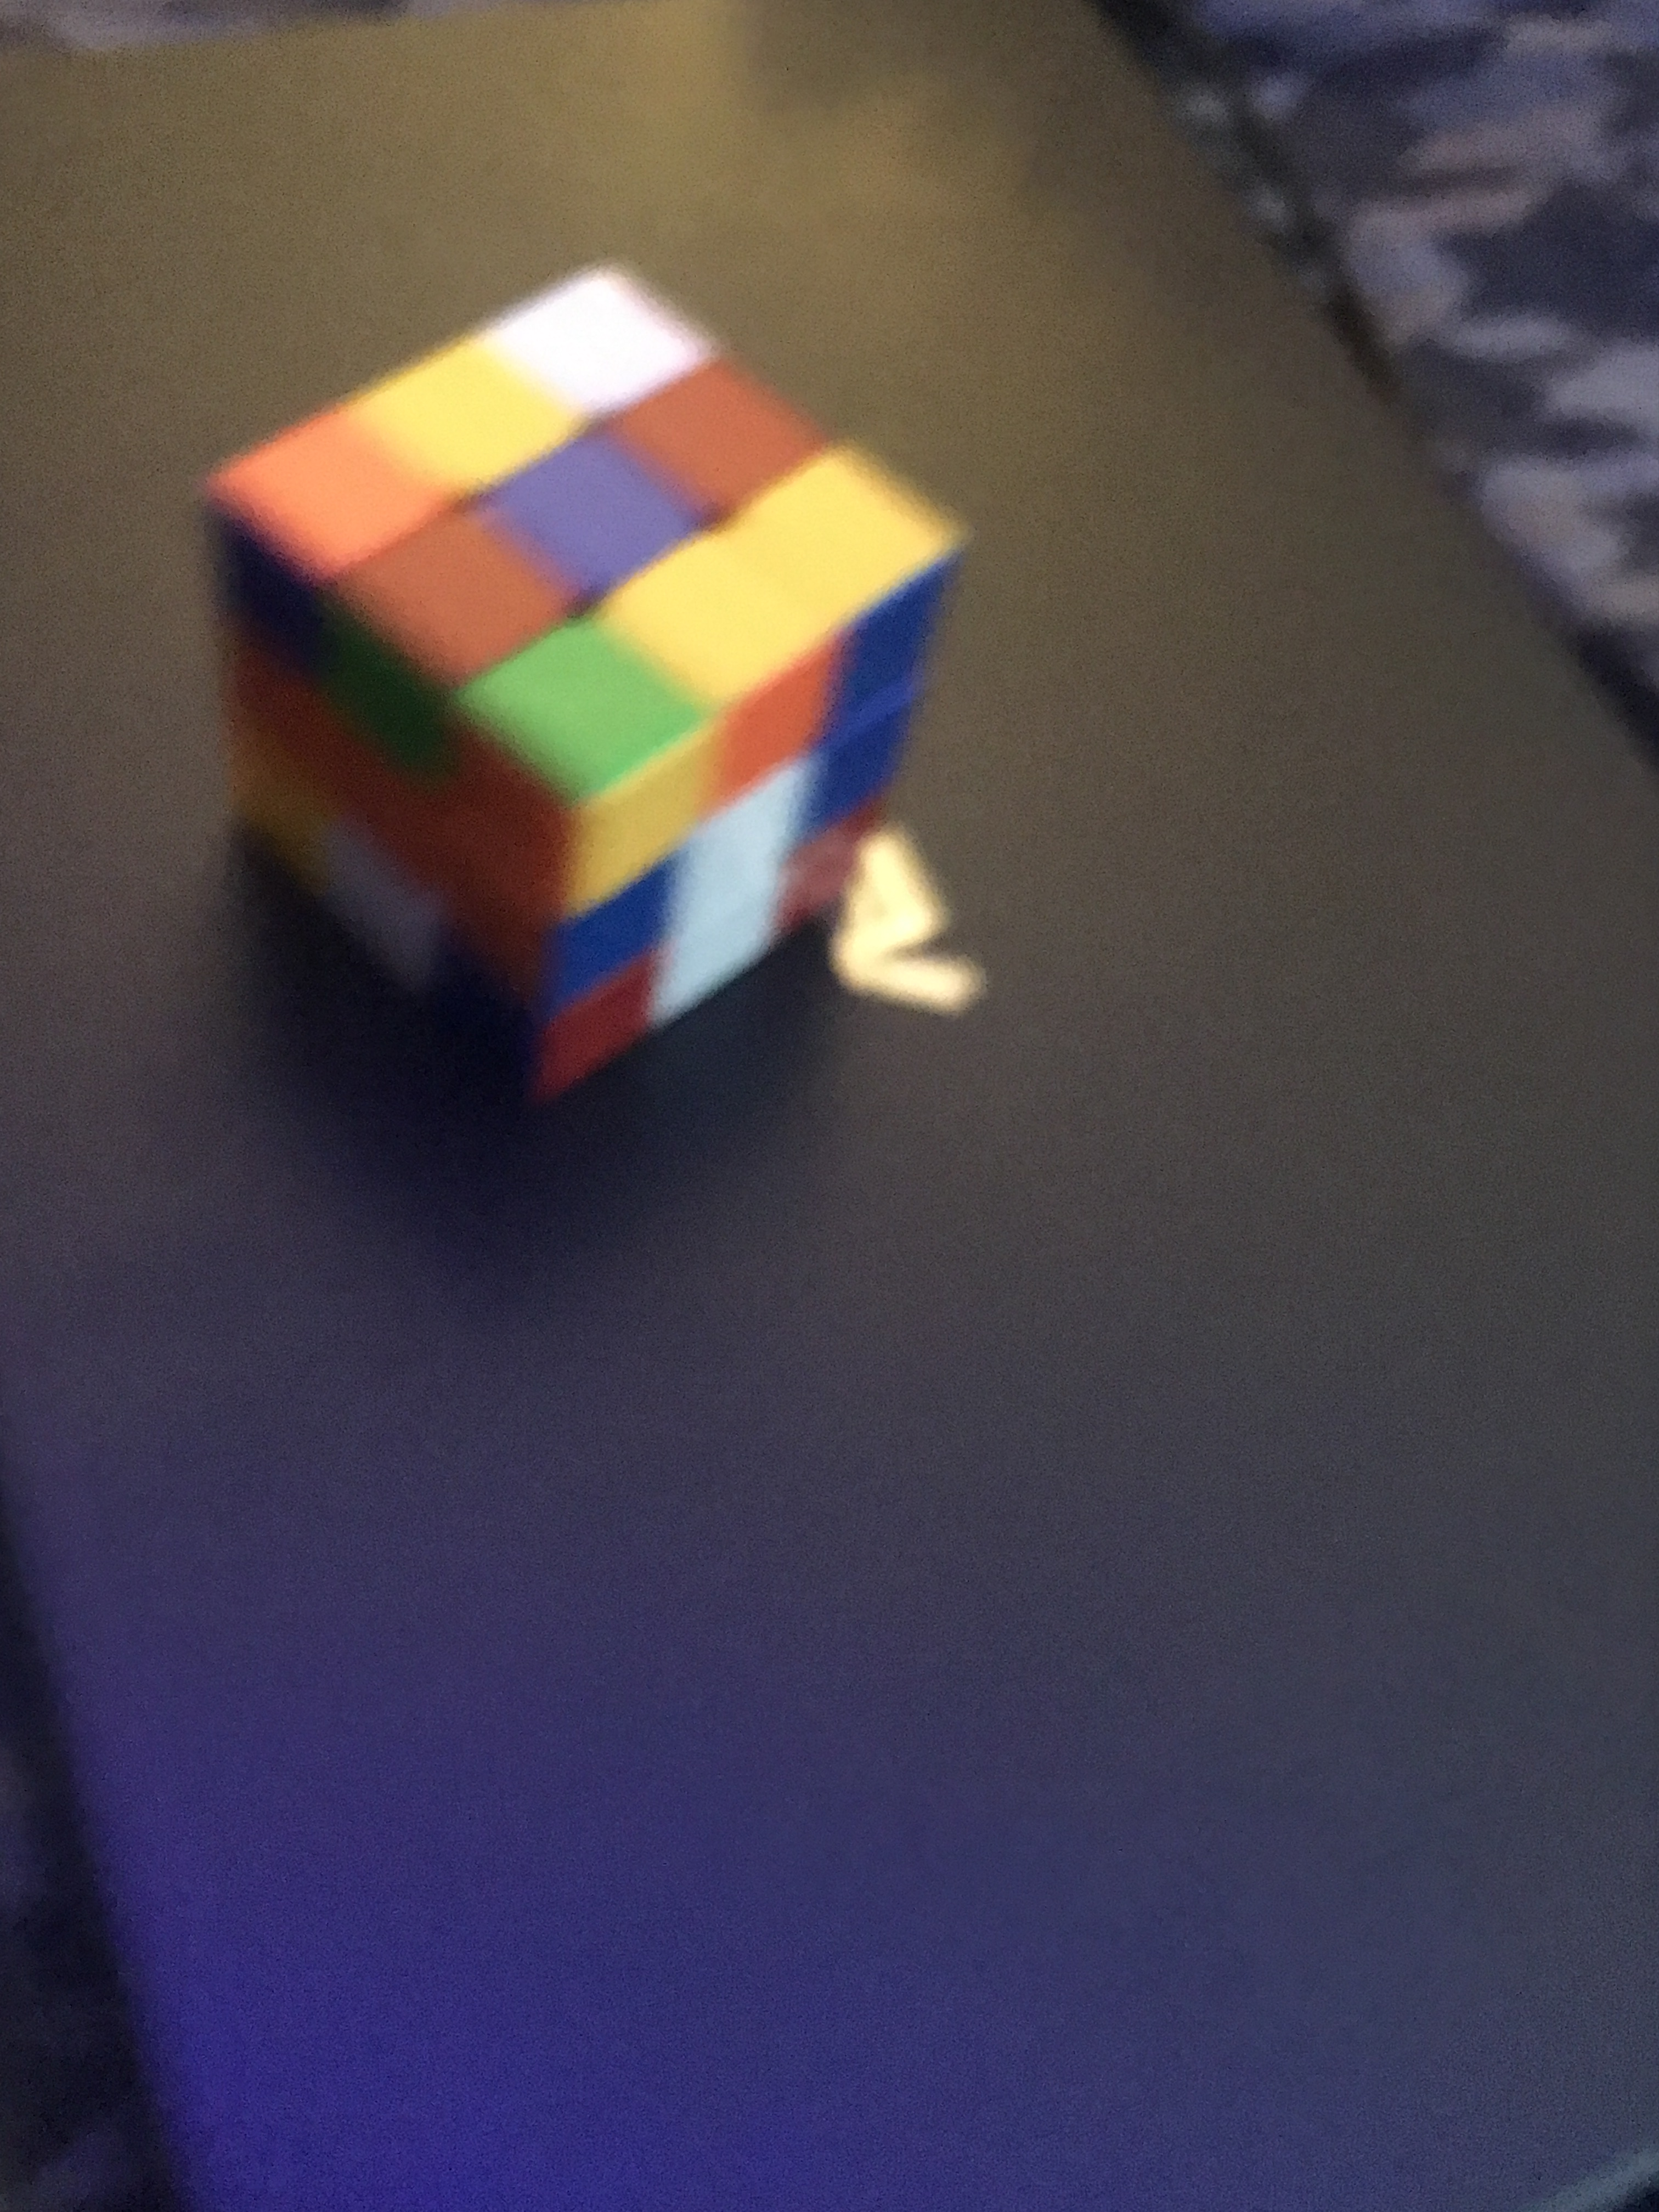rubiks: (195, 273, 958, 1101)
